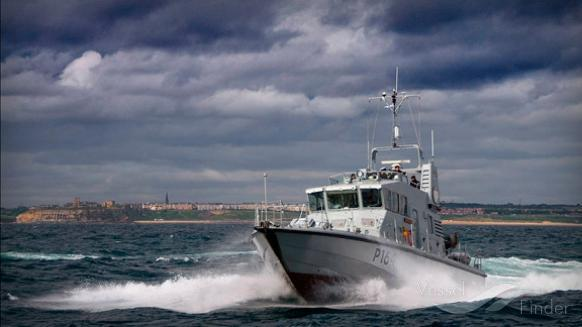OCR: (370, 246, 398, 268)
